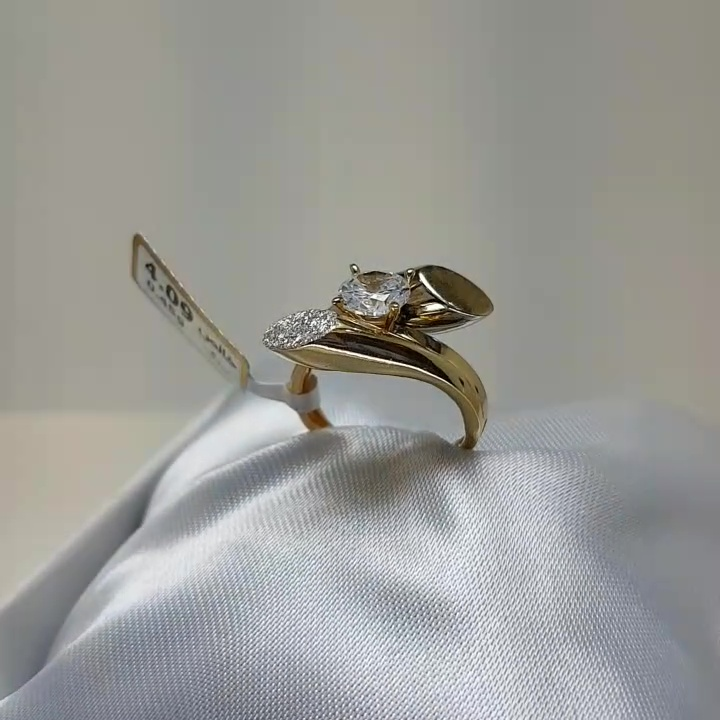Ring 7: (241, 241, 498, 473)
